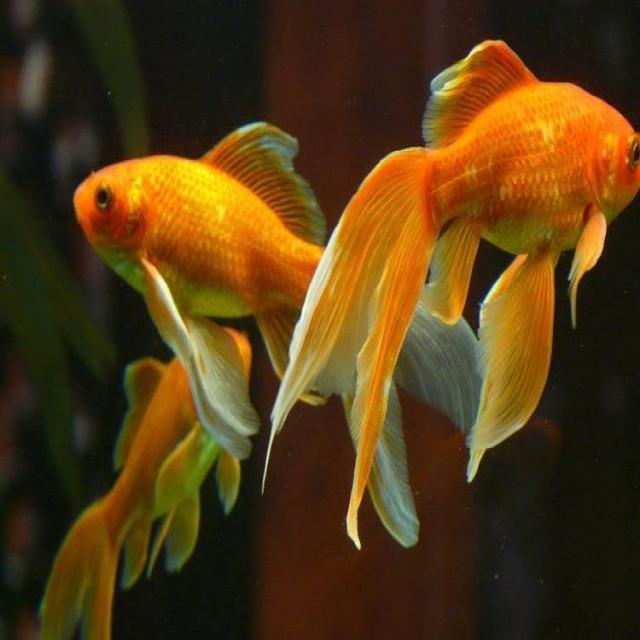GoldFish: (253, 32, 640, 554), (57, 115, 493, 554)
